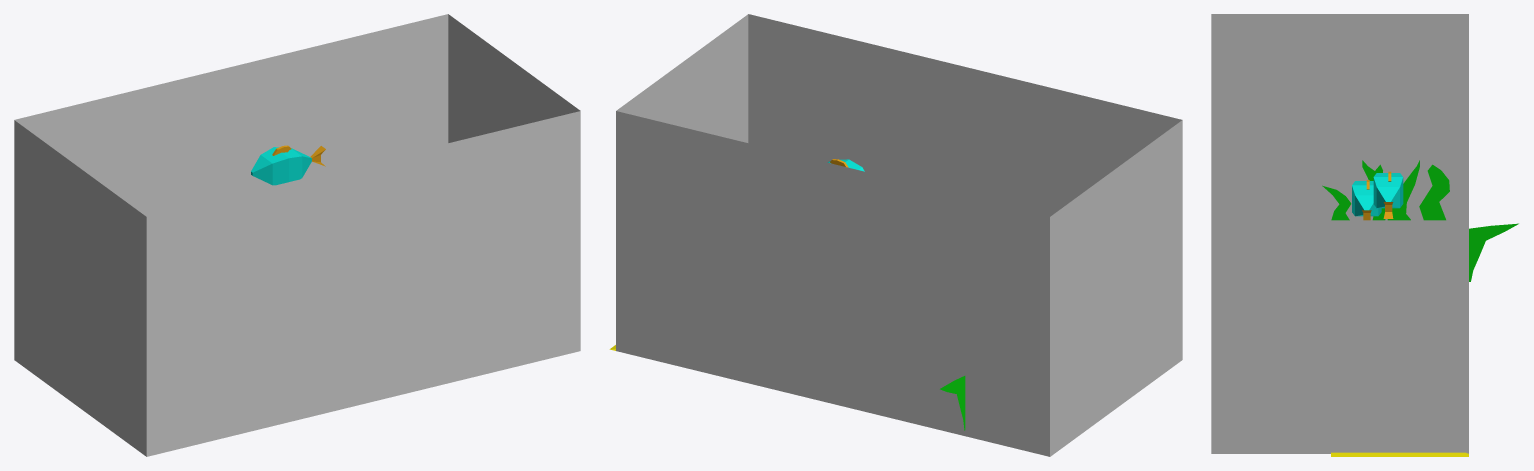
File: FishTank.fbx
3 renders of one model, left to right at view 1: azimuth 30°, elevation 25°; view 2: azimuth 150°, elevation 25°; view 3: azimuth 270°, elevation 25°, orthographic. The views are drawn at different scales.
Visible parts, largest first — view 1: FishTank, Fish.003; view 2: FishTank; view 3: FishTank, PlantBig, Fish.003, Fish.001, Sand.
Part boxes in pixels (x1,y1,x2,y2): FishTank: [14, 14, 580, 456]; Fish.003: [251, 145, 325, 185]; FishTank: [616, 14, 1182, 456]; FishTank: [1211, 14, 1468, 453]; PlantBig: [1322, 160, 1518, 281]; Fish.003: [1373, 171, 1403, 218]; Fish.001: [1352, 180, 1381, 220]; Sand: [1331, 452, 1468, 456].
Size of the model in its own units: 384 by 200 by 239.
